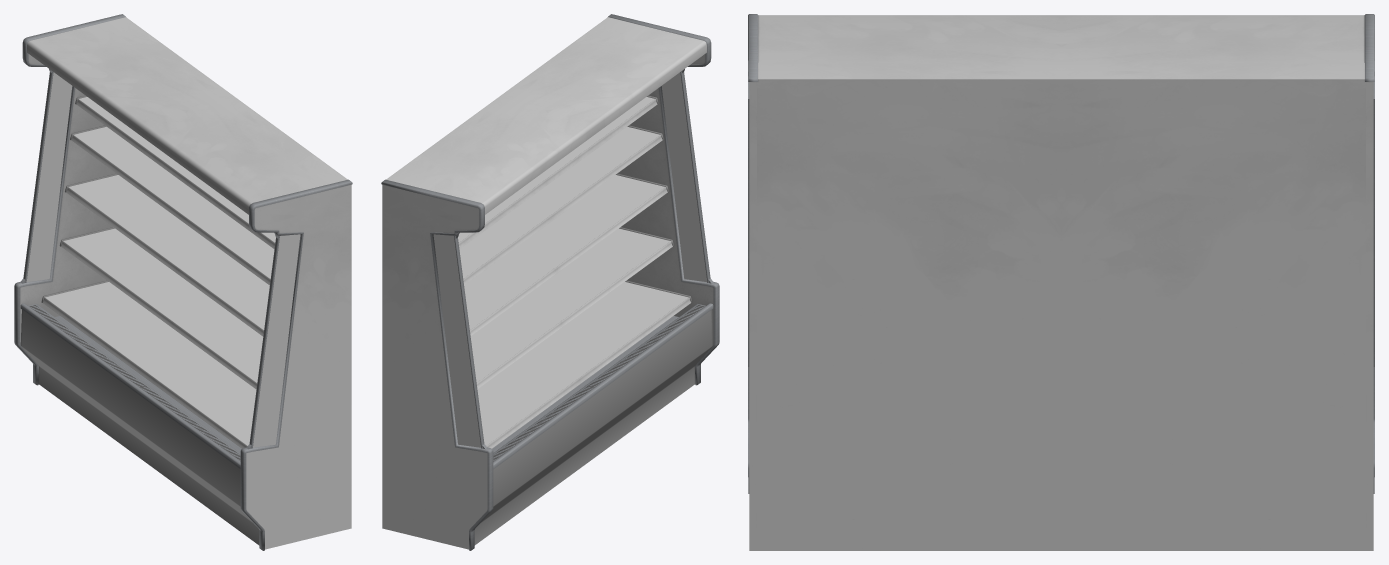
Rendered from SM_Freezer_01_Wide.fbx.
3 views of the same model, side by side, from view 1: azimuth 30°, elevation 25°; view 2: azimuth 150°, elevation 25°; view 3: azimuth 270°, elevation 25° (orthographic). The views are drawn at different scales.
Parts seen in each view (by area): view 1: SM_Freezer_01_Wide_LOD0; view 2: SM_Freezer_01_Wide_LOD0; view 3: SM_Freezer_01_Wide_LOD0.
Part boxes in pixels (x1,y1,x2,y2): SM_Freezer_01_Wide_LOD0: (14,14,352,550); SM_Freezer_01_Wide_LOD0: (381,14,719,550); SM_Freezer_01_Wide_LOD0: (748,14,1374,550).
Bounding box in the file's own units: 65.75 × 241 × 201.
